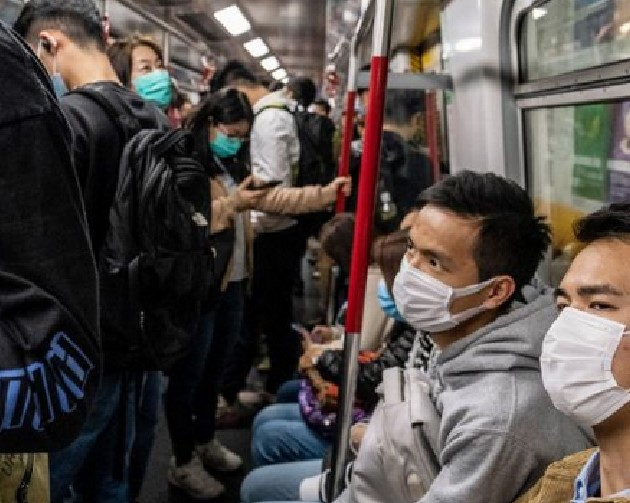face_with_mask: (393, 181, 520, 336), (538, 215, 626, 433), (122, 41, 176, 109), (204, 106, 253, 161)
